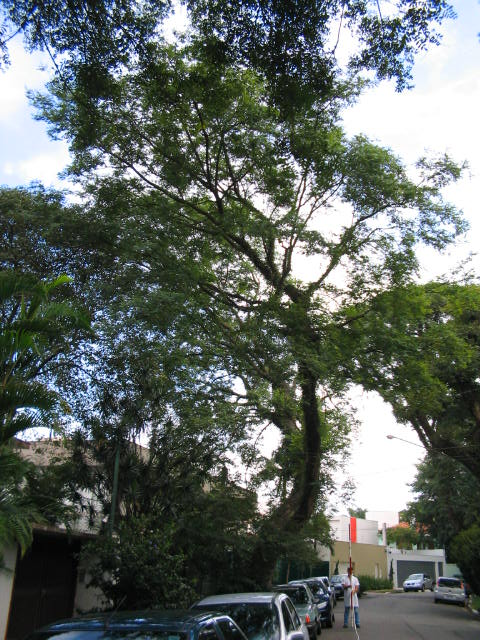stick: (346, 522, 361, 627)
